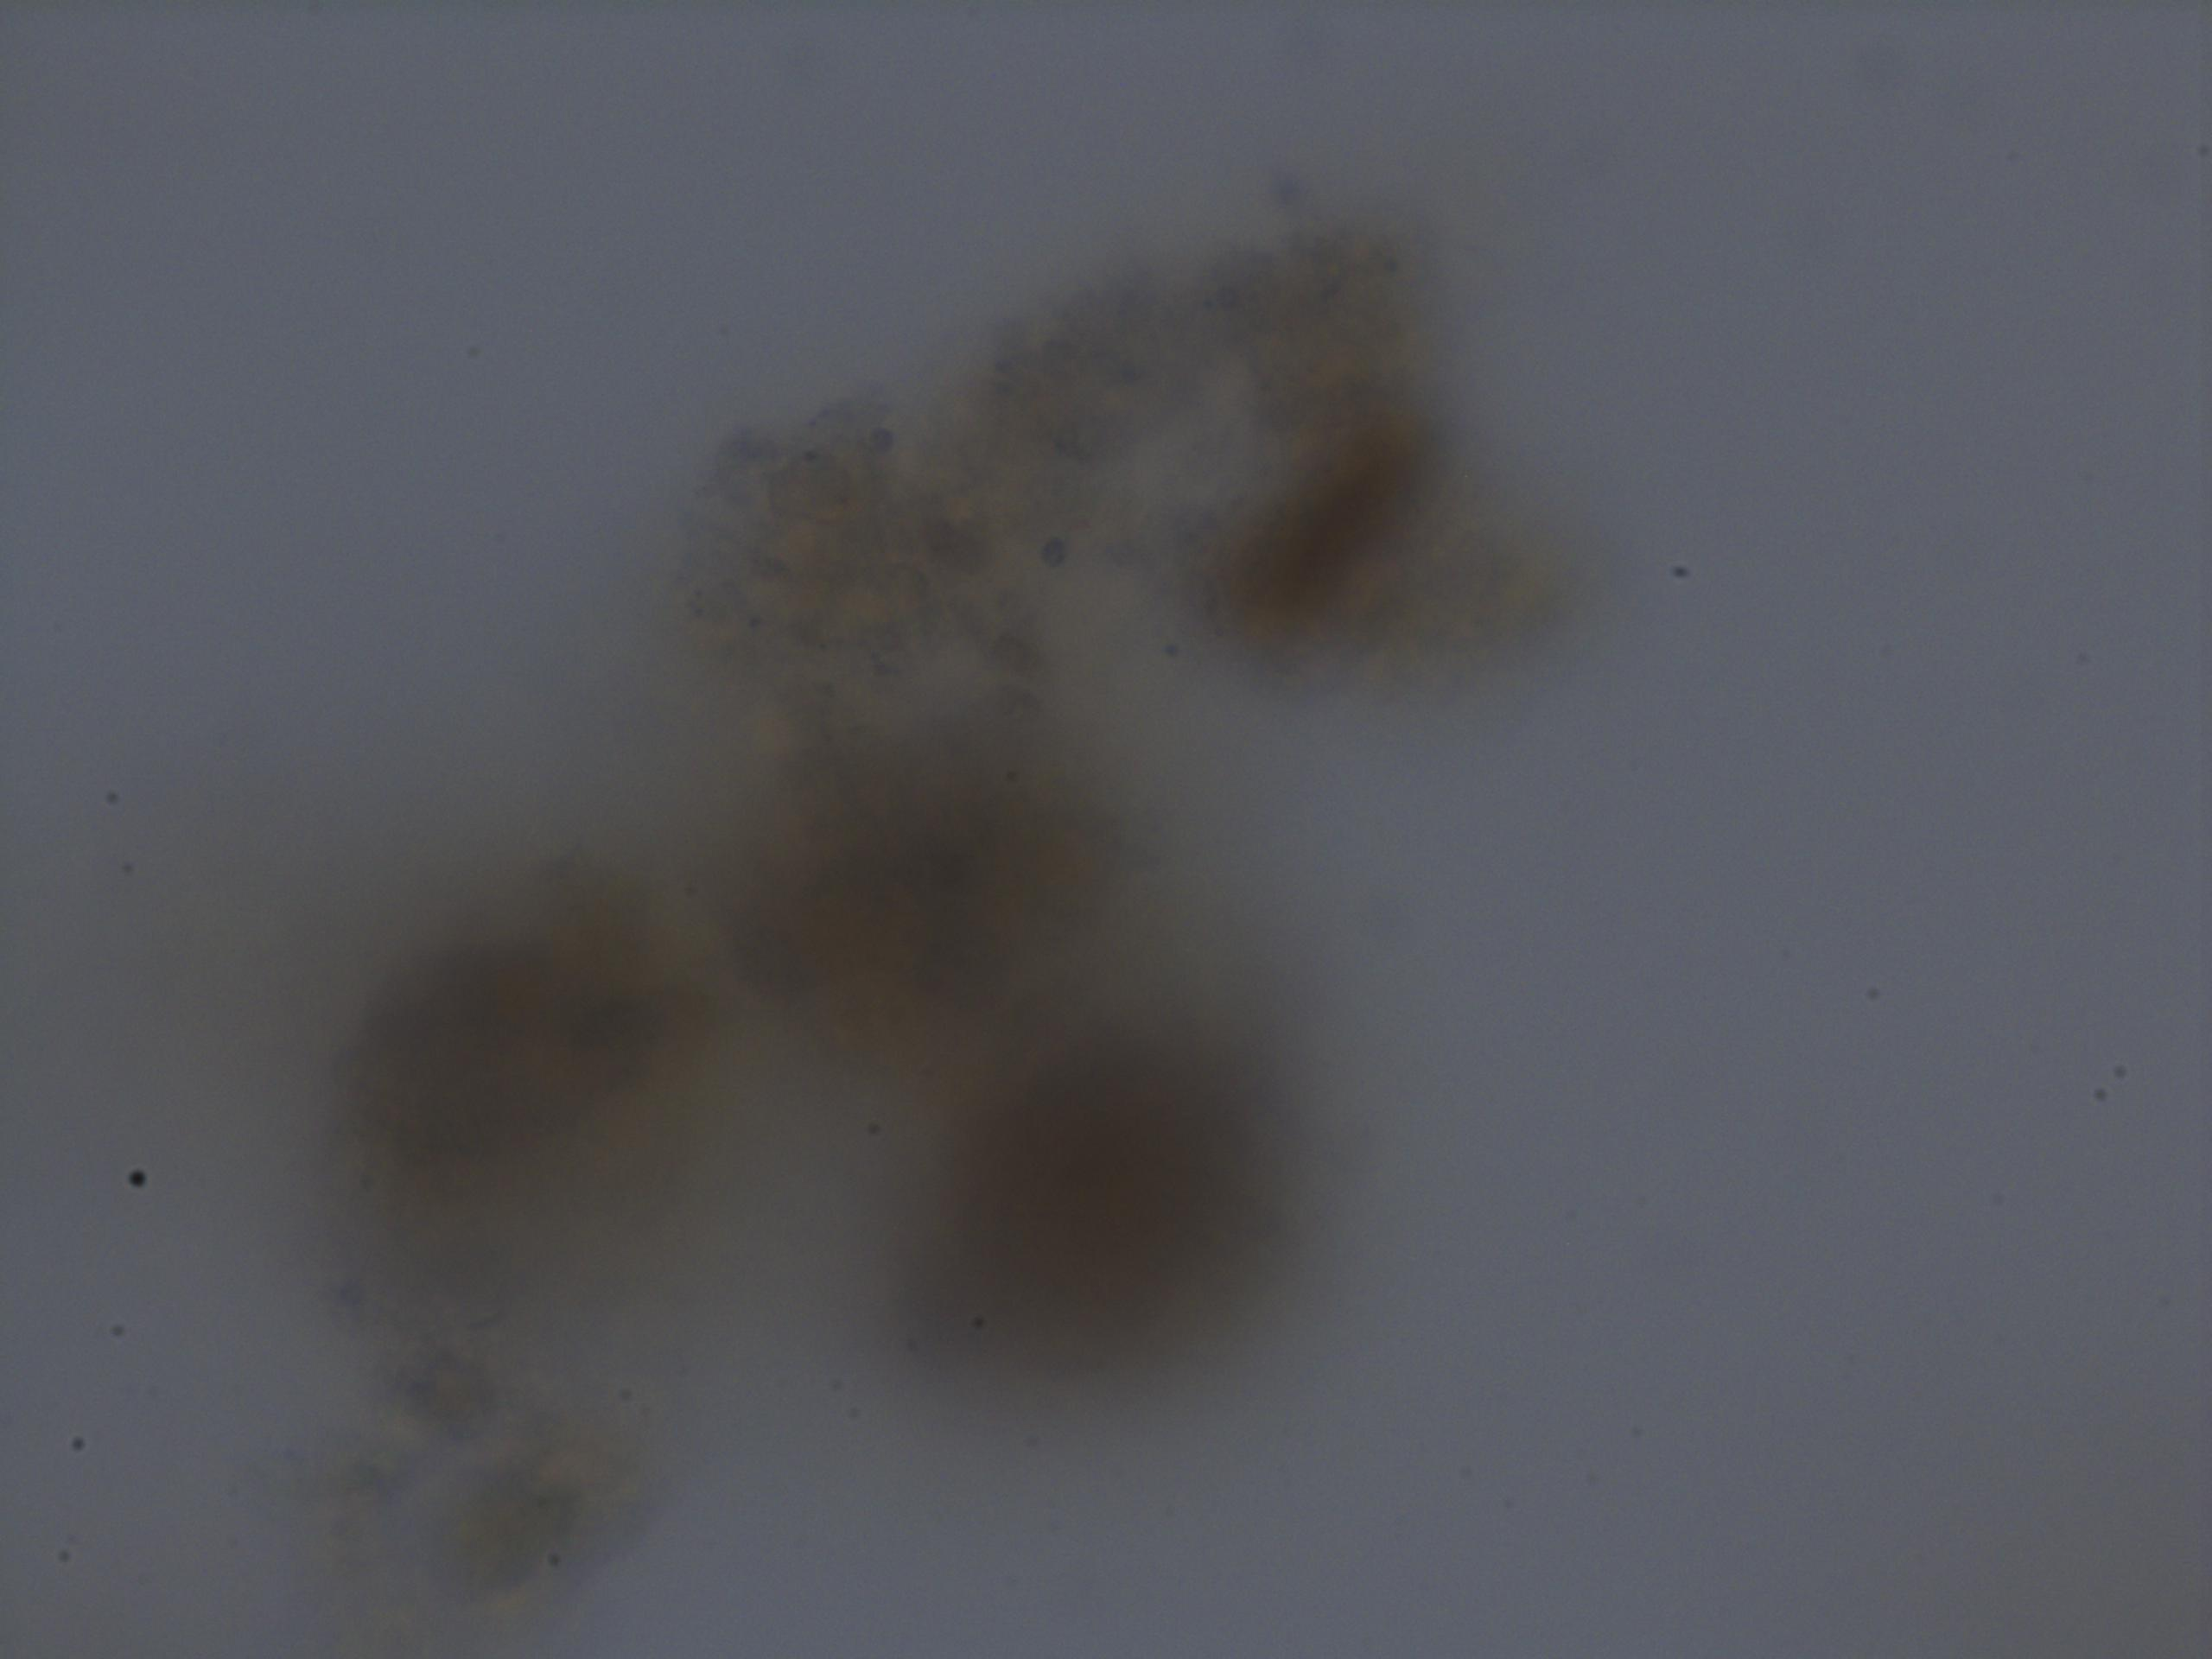open_floc: (308, 185, 1555, 1598)
